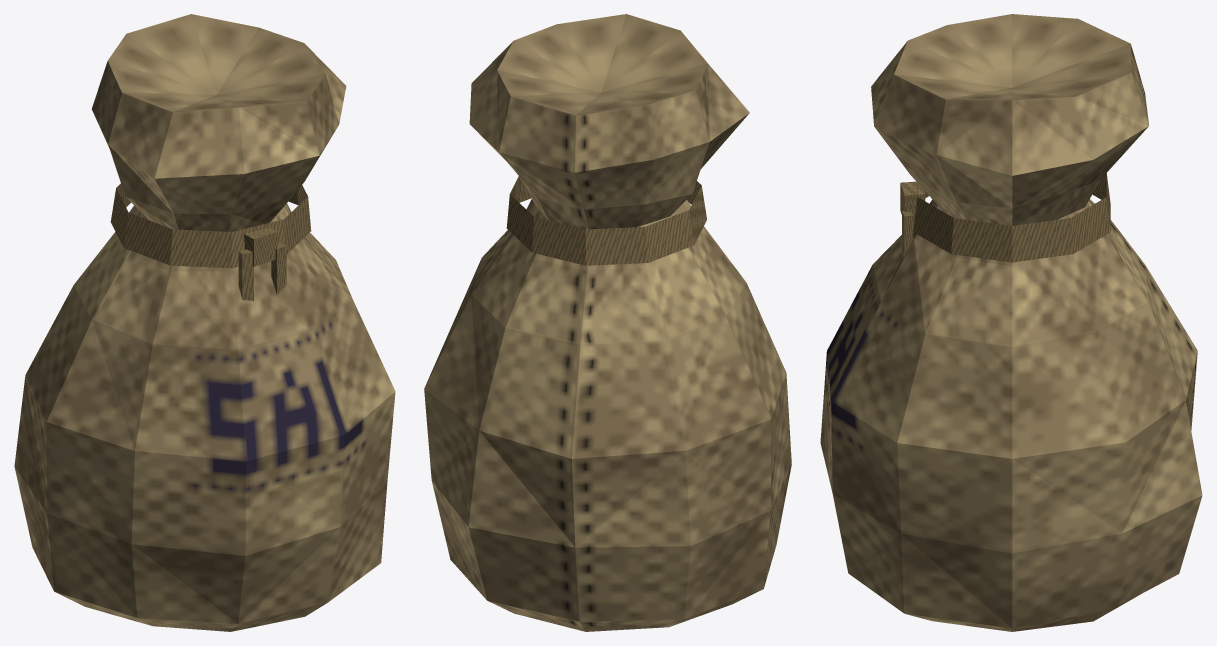
The model's file is SM_SaltBag.fbx.
The picture shows the model from 3 angles, left to right: view 1: azimuth 30°, elevation 25°; view 2: azimuth 150°, elevation 25°; view 3: azimuth 270°, elevation 25°; orthographic projection. The views are drawn at different scales.
Visible parts, largest first — view 1: SM_SaltBag; view 2: SM_SaltBag; view 3: SM_SaltBag.
Part boxes in pixels (x1,y1,x2,y2): SM_SaltBag: (14,14,395,631); SM_SaltBag: (424,14,791,631); SM_SaltBag: (820,14,1202,631).
Bounding box in the file's own units: 0.1494 × 0.224 × 0.1474.
1 material, 1 textured.
